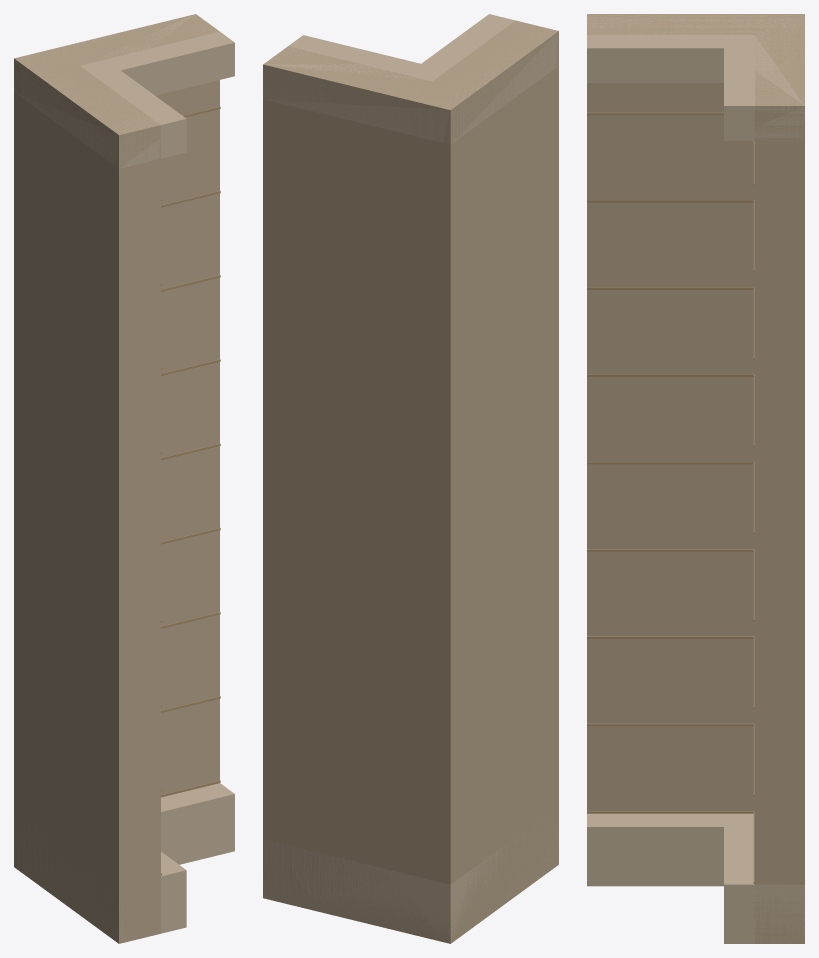
Rendered from wall_corner_2m.glb.
The picture shows the model from 3 angles, left to right: view 1: azimuth 30°, elevation 25°; view 2: azimuth 150°, elevation 25°; view 3: azimuth 270°, elevation 25°; orthographic projection. The views are drawn at different scales.
Parts seen in each view (by area): view 1: wall_corner_2m; view 2: wall_corner_2m; view 3: wall_corner_2m.
Part boxes in pixels (box(x1,y1,x2,y2)): wall_corner_2m: box(14, 14, 234, 943); wall_corner_2m: box(263, 14, 558, 943); wall_corner_2m: box(587, 14, 804, 943).
Size of the model in its own units: 1.13 by 4.8 by 1.13.
